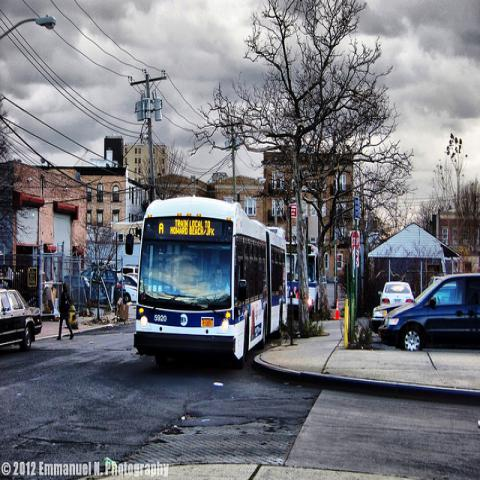bus: (125, 196, 290, 369), (288, 244, 319, 311)
car: (377, 271, 479, 350), (2, 290, 45, 348), (378, 282, 413, 306), (80, 267, 118, 286), (123, 275, 137, 302), (119, 272, 140, 288), (428, 277, 441, 286)
